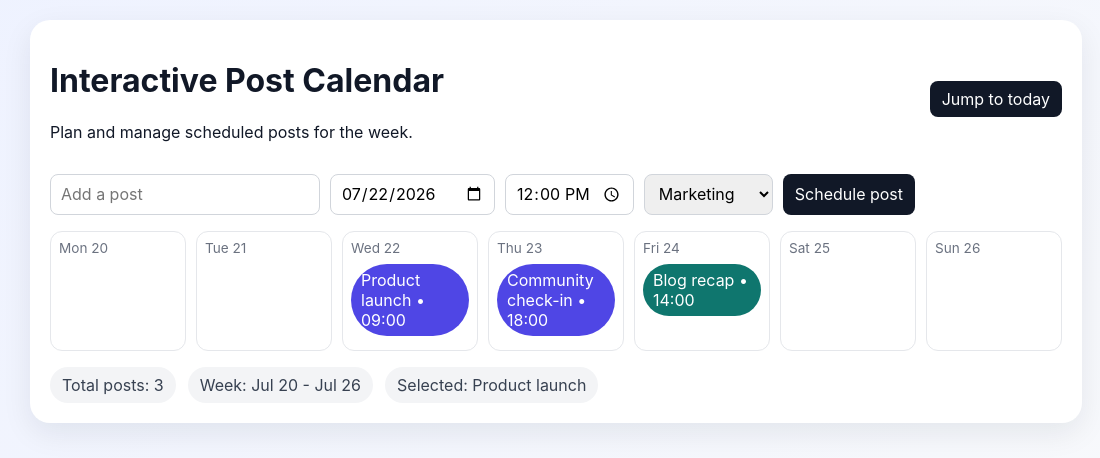
it: Post scheduler calendar › renders the calendar with initial posts and allows scheduling a new post
This screenshot has width=1100, height=458.
Expected: the heading "Interactive Post Calendar" is shown, x1=50 y1=61 x2=444 y2=100
Expected: the button "Product launch • 09:00" is shown, x1=351 y1=264 x2=469 y2=336
Step 1. Type "New campaign" into the field named "Post title" → (185, 194), box x1=50 y1=174 x2=320 y2=215
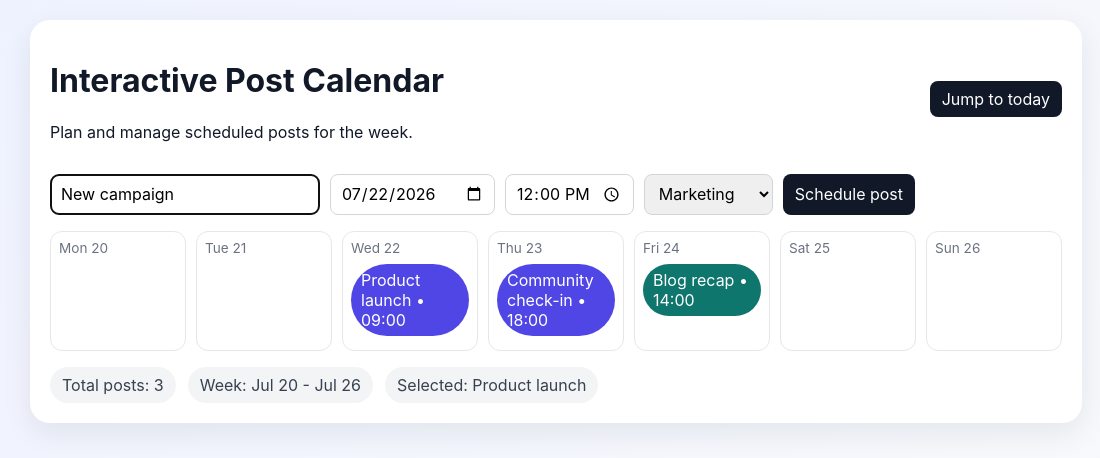
Step 2. Type "2026-07-25" into the date field named "Post date" → (412, 194), box x1=330 y1=174 x2=495 y2=215
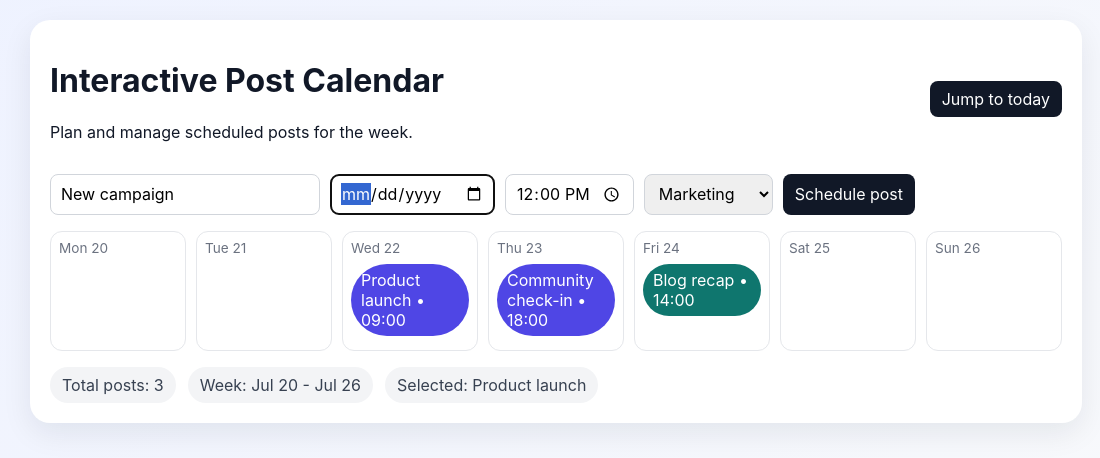
Step 3. Type "16:30" into the time field named "Post time" → (569, 194), box x1=505 y1=174 x2=634 y2=215
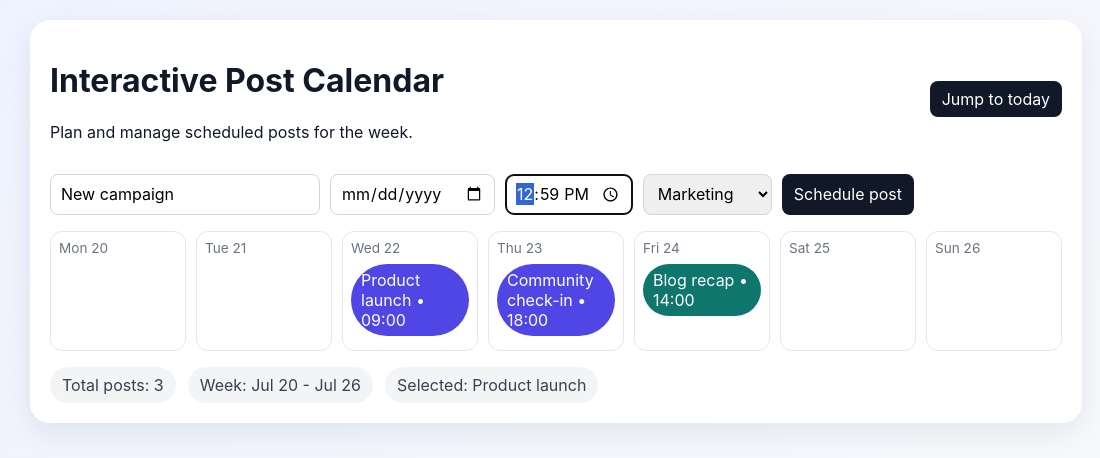
Step 4. Select "Community" in the dropdown named "Post type" → (707, 194), box x1=643 y1=174 x2=772 y2=215
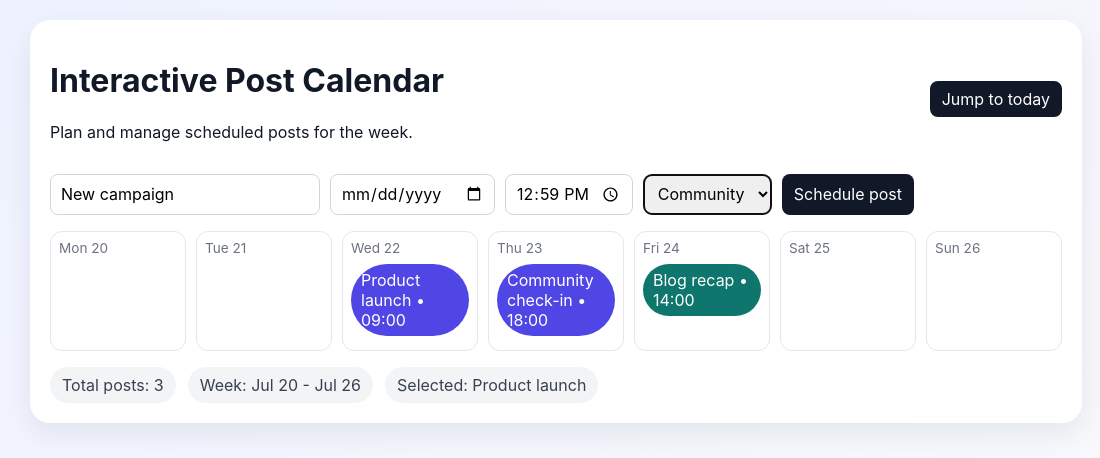
Step 5. Click the button "Schedule post" → (848, 194), box x1=782 y1=174 x2=914 y2=215
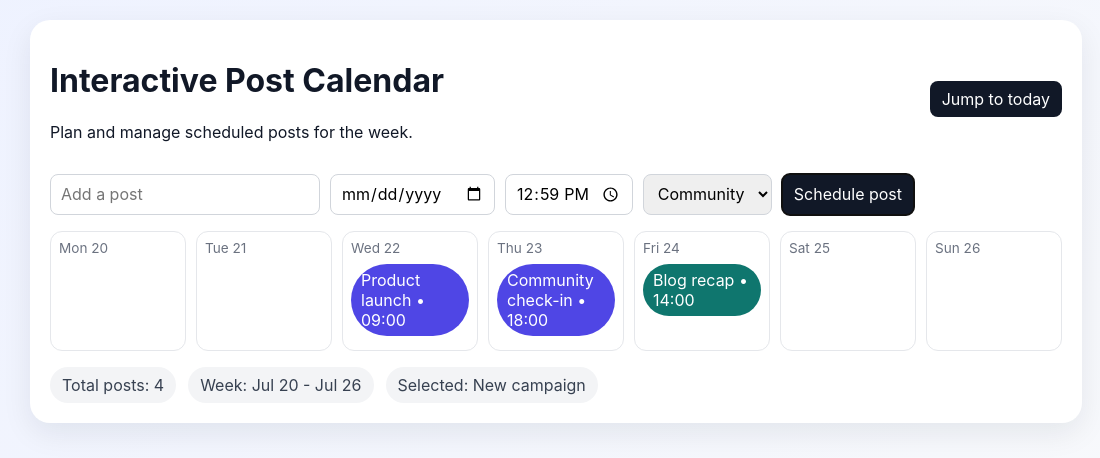
Expected: the text "Selected: New campaign" is shown, x1=386 y1=367 x2=598 y2=403
Expected: the text "Total posts: 4" is shown, x1=50 y1=367 x2=176 y2=403
